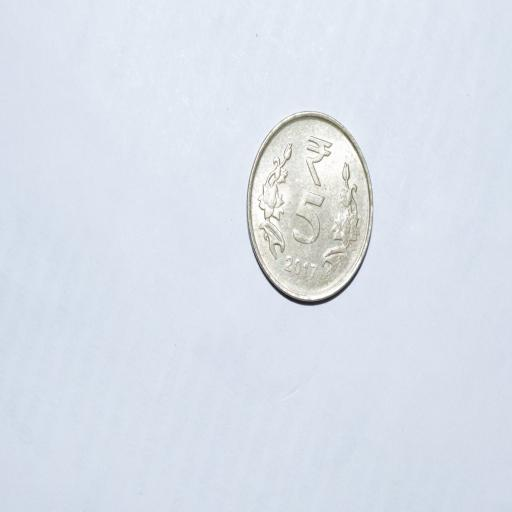rupee5: (245, 111, 372, 302)
